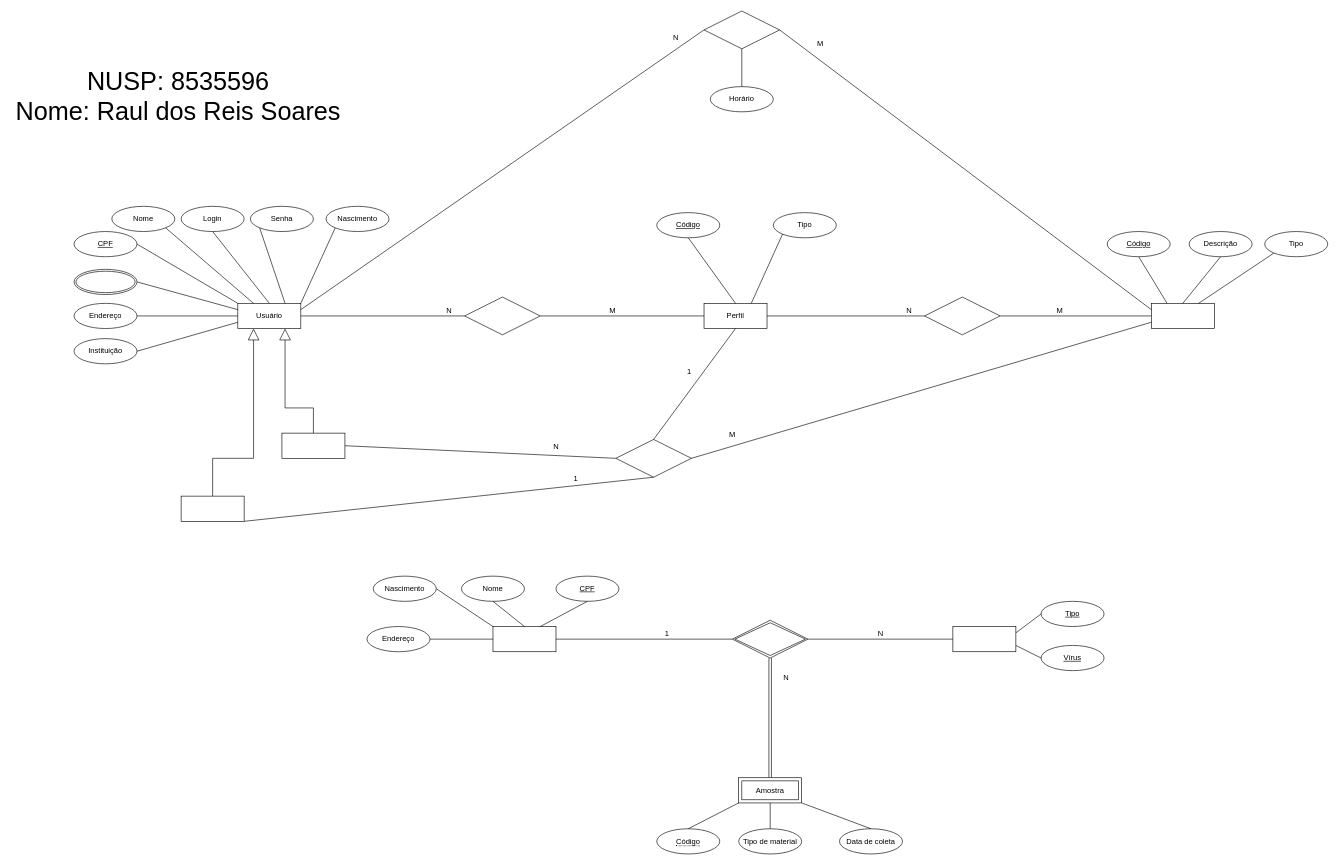
Some shapes in this 1339 by 865 pixel diagram are drawn without their labels. Each missing label, with the centre of its shape:
"Acessa" goes at pixel 962 315.
"Delega" goes at pixel 653 458.
"Exame" goes at pixel 984 639.
"Executou" goes at pixel 741 29.
"Faz" goes at pixel 770 639.
"Paciente" goes at pixel 524 639.
"Possui" goes at pixel 502 315.
"Serviço" goes at pixel 1182 316.
"Tutelado" goes at pixel 313 445.
"Tutor" goes at pixel 212 508.
"Área de Pesquisa" goes at pixel 105 282.
